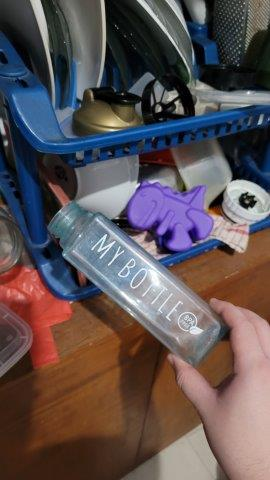botolplastik: (42, 199, 232, 372)
